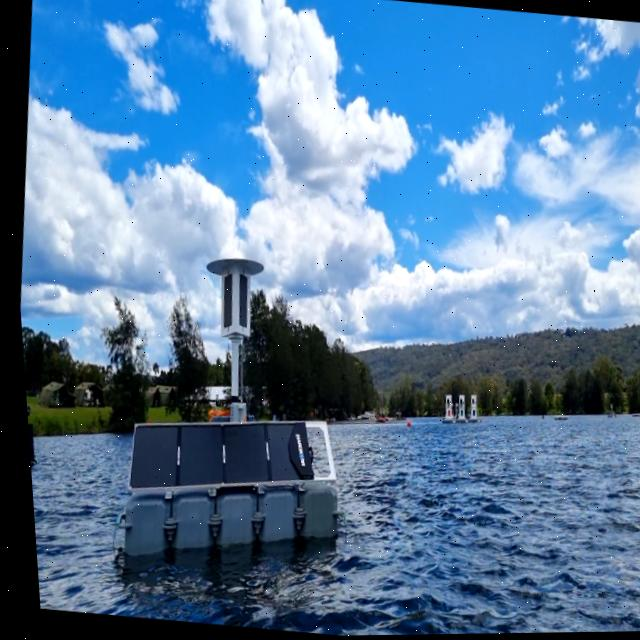led: (227, 270, 249, 332), (213, 271, 235, 330)
